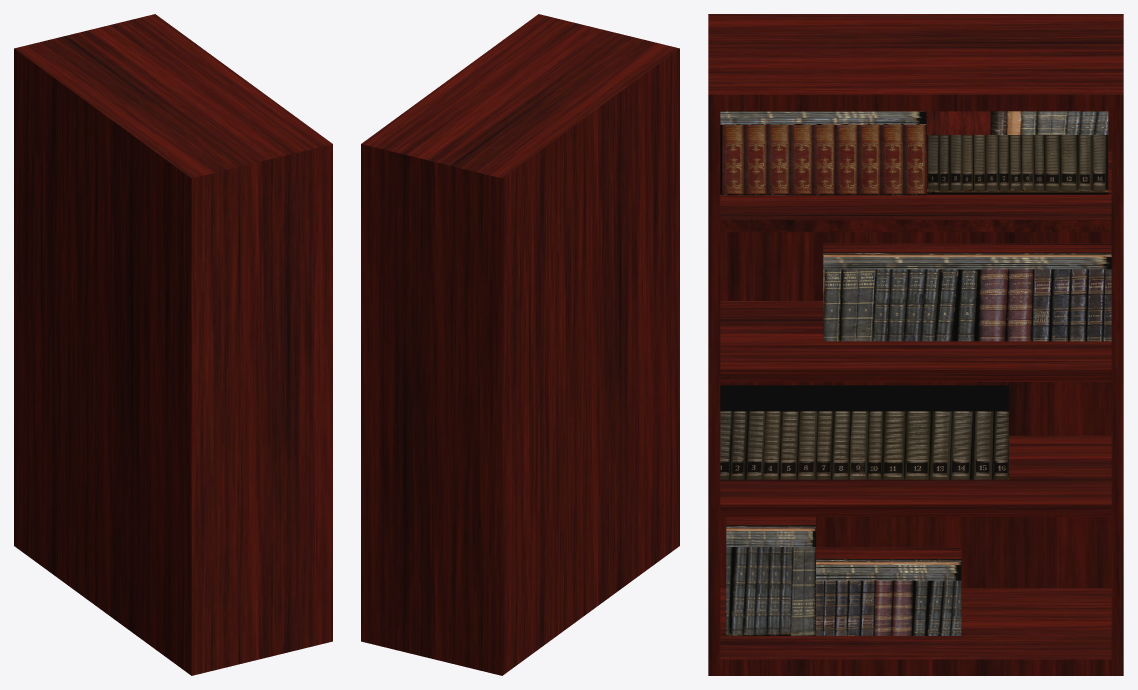
Rendered from bookshelf 1.fbx.
The picture shows the model from 3 angles, left to right: view 1: azimuth 30°, elevation 25°; view 2: azimuth 150°, elevation 25°; view 3: azimuth 270°, elevation 25°; orthographic projection. The views are drawn at different scales.
Visible parts, largest first — view 1: pCube2; view 2: pCube2; view 3: pCube2, pasted__pCube4 (×2), pasted__pCube3 (×2), pasted__pasted__pCube4, pCube4, pCube3, pasted__pasted__pasted__pasted__pCube4, pasted__pasted__pasted__pCube4.
Boxes of the visible parts, box(x1,y1,x2,y2) form: pCube2: box(14, 14, 332, 675); pCube2: box(361, 14, 679, 675); pCube2: box(708, 14, 1123, 675); pasted__pCube4 (×2): box(823, 111, 1111, 341); pasted__pCube3 (×2): box(720, 301, 1111, 516); pasted__pasted__pCube4: box(720, 385, 1008, 479); pCube4: box(720, 111, 926, 195); pCube3: box(720, 151, 1111, 232); pasted__pasted__pasted__pasted__pCube4: box(814, 547, 961, 635); pasted__pasted__pasted__pCube4: box(726, 517, 815, 635).
Size of the model in its own units: 3.11 by 10.45 by 6.76.
Materials: 3 (3 with a texture image).
